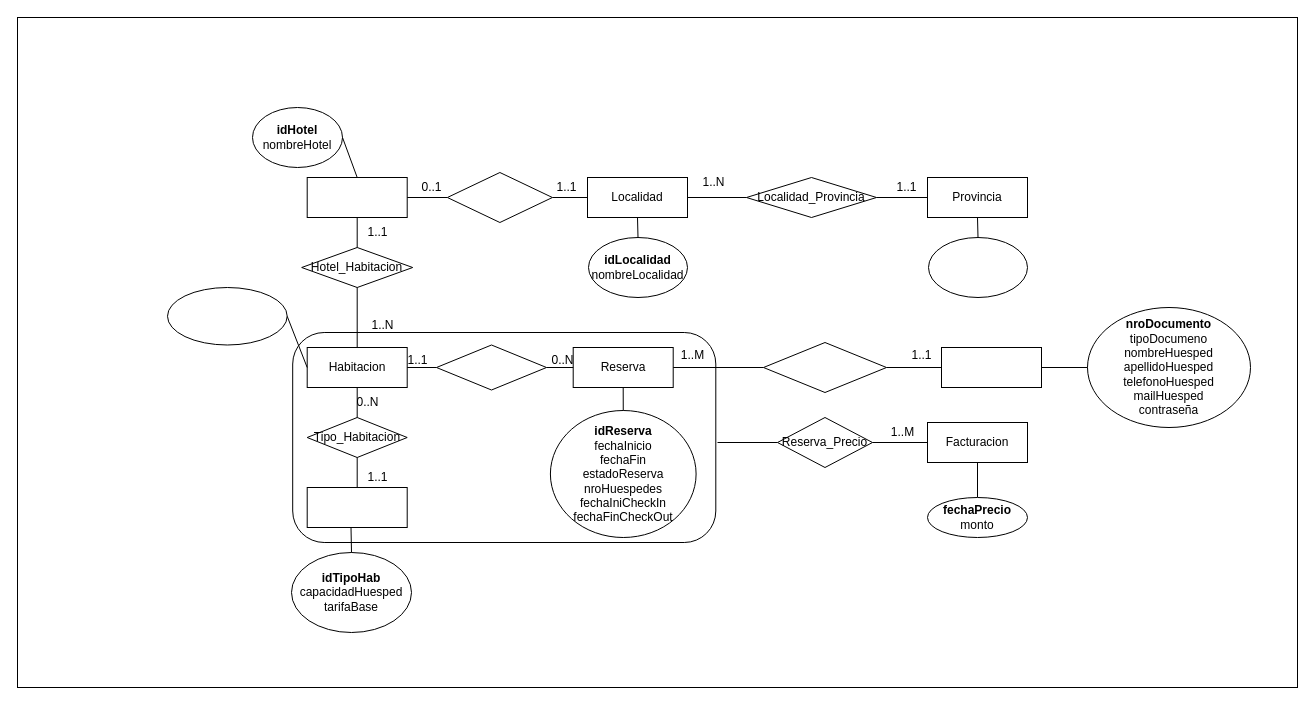
This 1315x705 diagram has some shape labels left out. Each missing label, with the centre of its shape:
"Cliente" goes at point (991, 367).
"Hab_Reserva" goes at point (491, 367).
"Hotel" goes at point (356, 197).
"Hotel_Localidad" goes at point (499, 197).
"idHabitacion tipoHabitacion estadoHabitacion" goes at point (226, 315).
"idProvincia nombreProvincia" goes at point (978, 267).
"Reserva_Cliente" goes at point (824, 367).
"TipoHabitacion" goes at point (356, 507).
